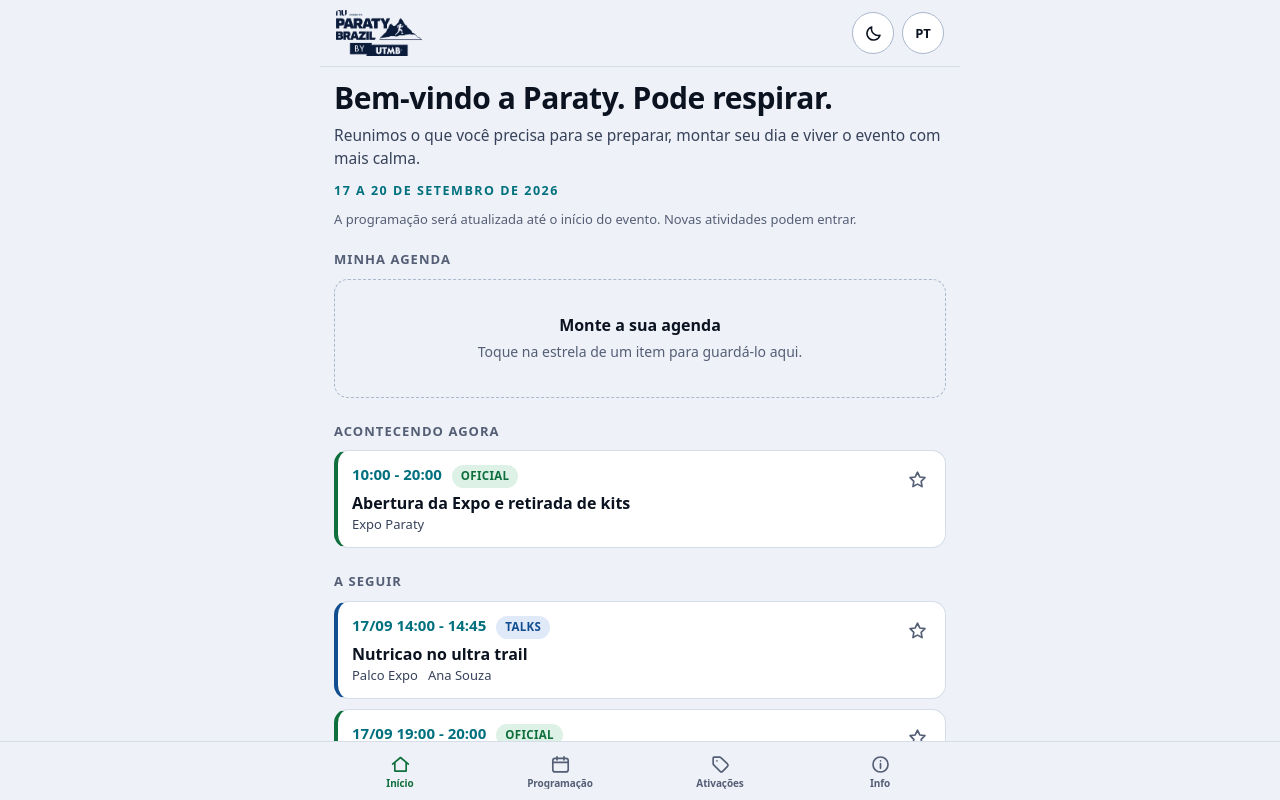
Test: App › troca o idioma da interface inteira
Expected: the navigation bar is shown, [320,742,960,799]
Click the button named "trocar idioma".
click(923, 33)  # box [902,12,944,54]
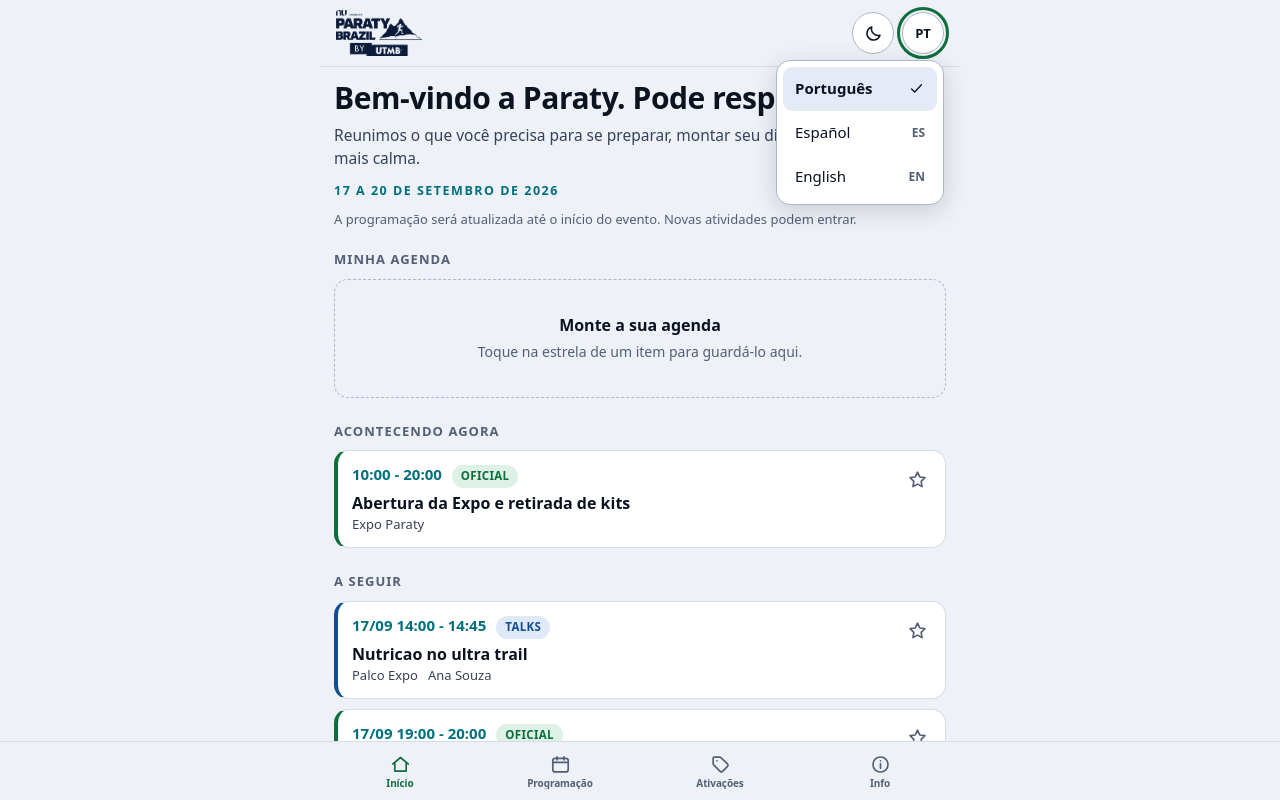
Click the menu item "English EN".
click(860, 176)  # box [783,154,937,198]
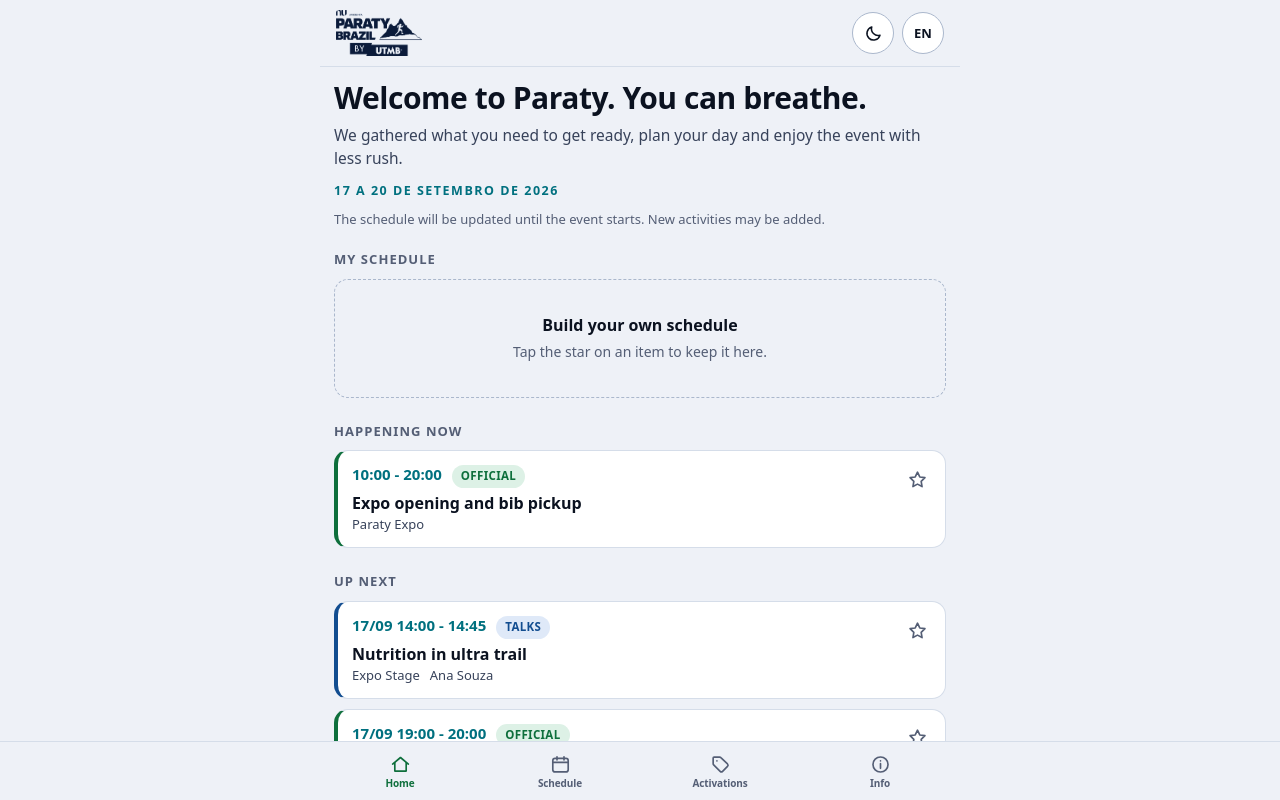
Expected: the button "Schedule" is shown, [480,742,640,799]
Expected: the heading "Happening now" is shown, [334,422,462,440]
